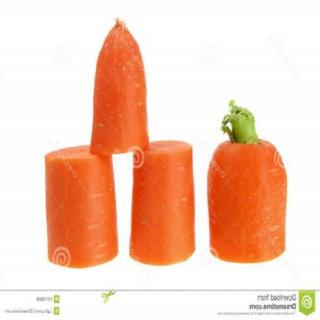carrot: (201, 98, 291, 266), (46, 144, 120, 270), (88, 16, 150, 157), (126, 142, 194, 264)
